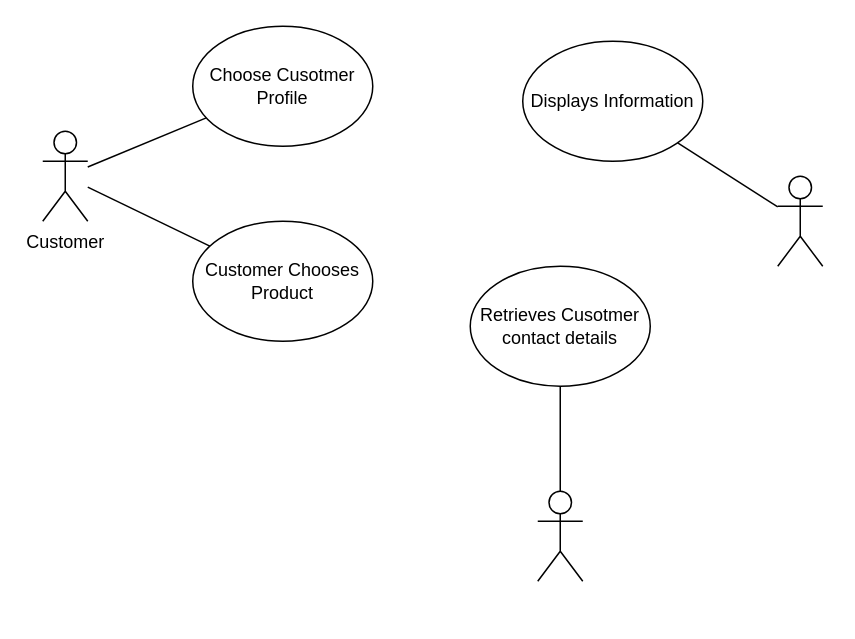
The diagram is 855 pixels wide and 639 high, and some of its shapes have lost their labels. The centre of each missing label's shape, as x and y in pixels:
"Database" belongs at point 559,535.
"System" belongs at point 799,220.
